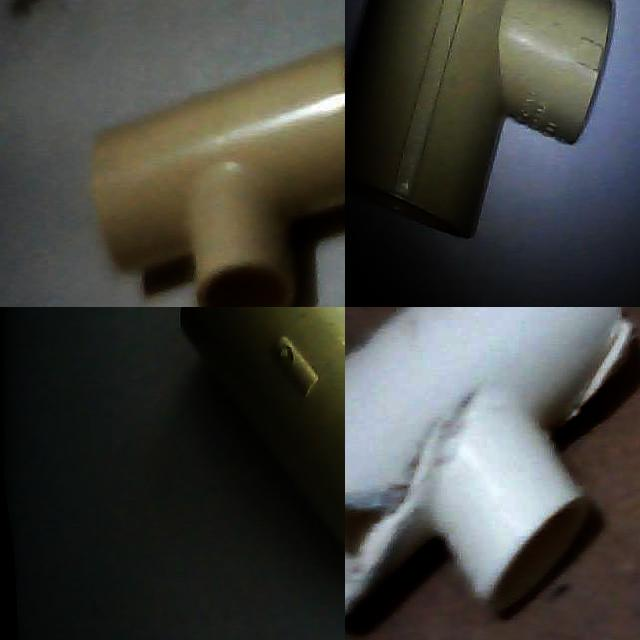Defective: (345, 435, 439, 631), (556, 312, 640, 432)
T Joint: (345, 307, 636, 623), (92, 45, 345, 307), (345, 0, 616, 241), (178, 307, 345, 554)
